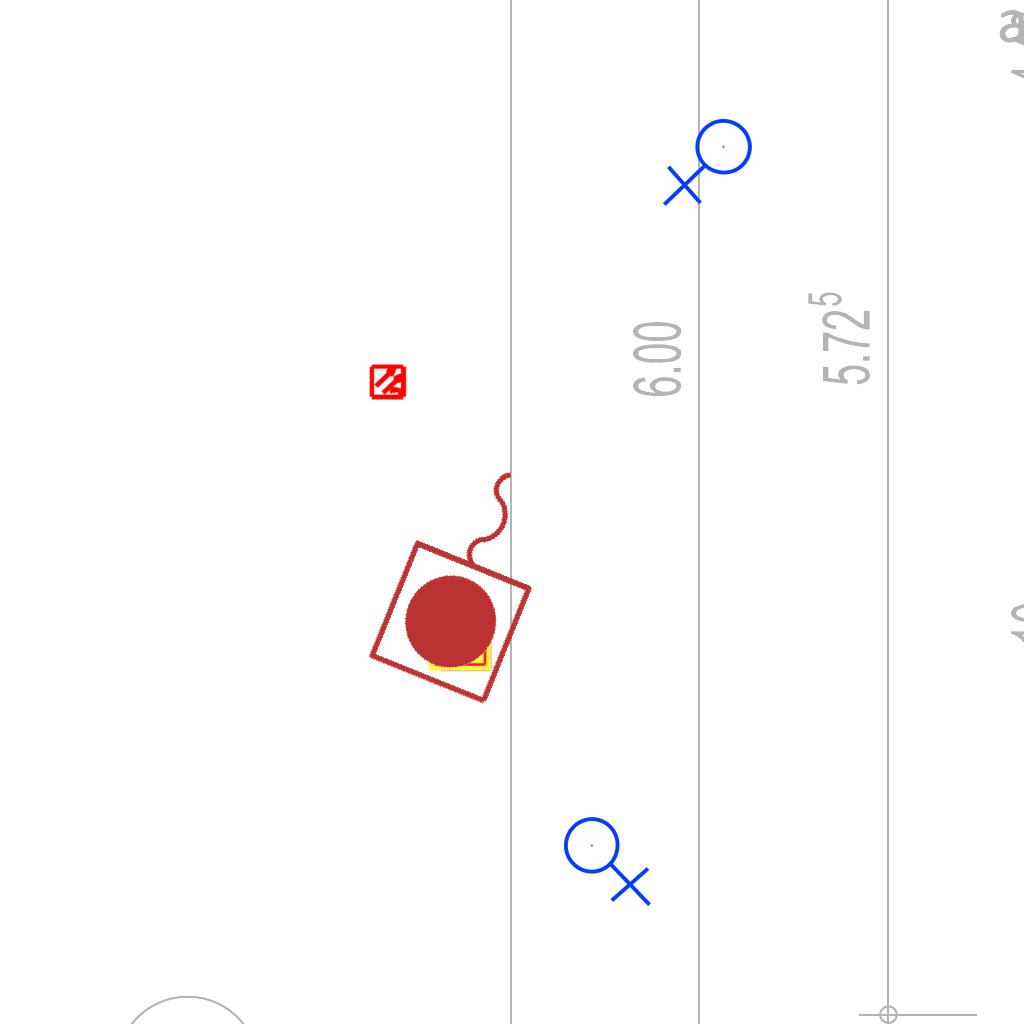Elektroanschluss_allgemein_230V_Geraeteanschlussdose_230V: (562, 808, 656, 907), (662, 117, 761, 211)
OKW_Multisensormelder_(Kombination_optischer_Rauch-Kahlenmonoxid_Waerme-Melder): (427, 606, 493, 672)
OT_Multisensormelder_(Kombination_RMO_WMD): (361, 354, 417, 410)
Zugtaster: (358, 435, 584, 717)
